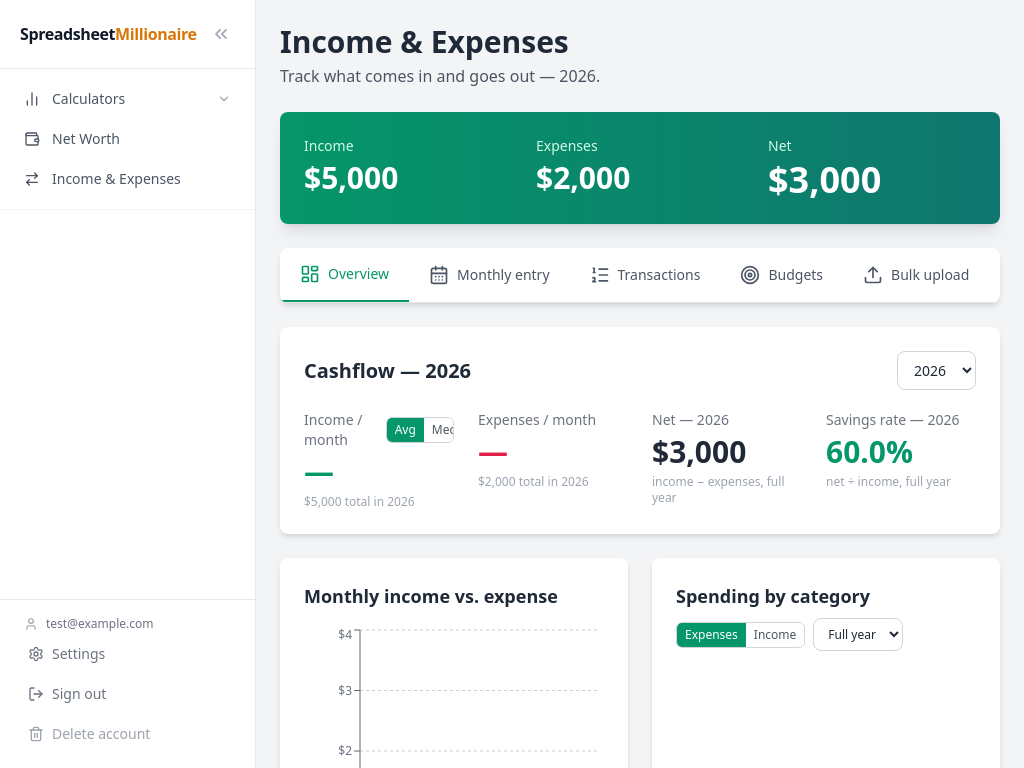
IncomeExpensePage › switches to the Bulk upload tab and shows the coming-soon teaser
The width and height of the screenshot is (1024, 768).
What coordinates should you click on to do the following:
click the button "Bulk upload"
I would click on:
 (916, 275)
Its box is top-left (843, 248), bottom-right (989, 302).
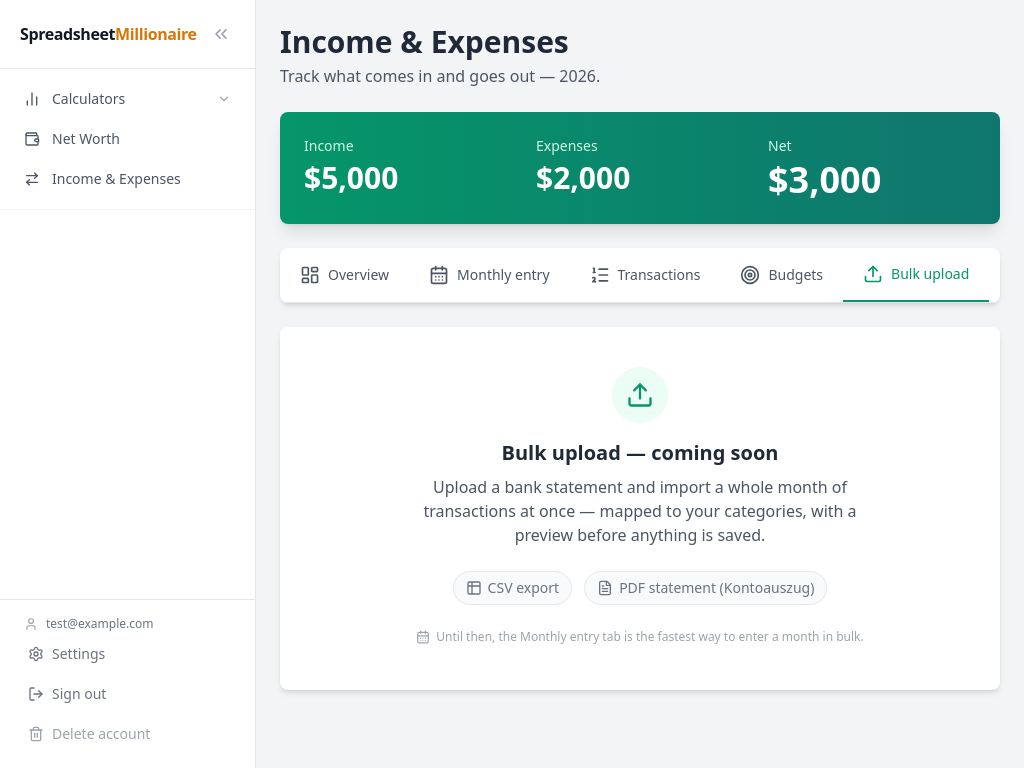
Expected: the heading "Bulk upload — coming soon" is shown, top-left (502, 439), bottom-right (778, 466)
Expected: the text "PDF statement (Kontoauszug)" is shown, top-left (584, 571), bottom-right (827, 605)
